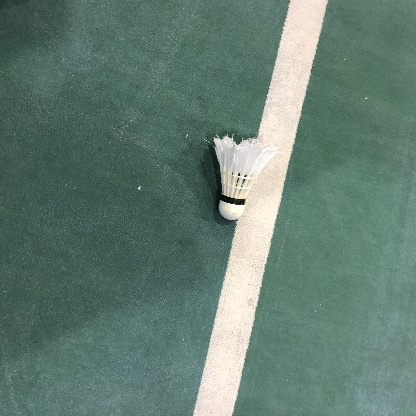ball_single: (214, 136, 277, 220)
